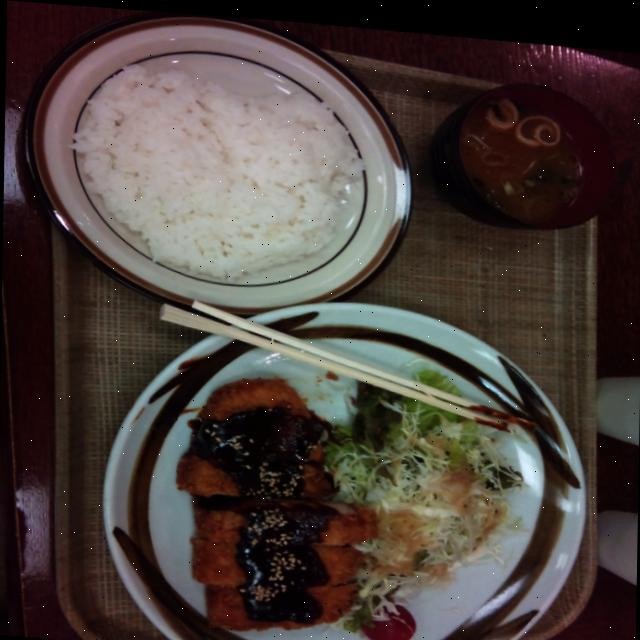汤锅炖物: (430, 66, 617, 229)
米饭主食: (19, 1, 413, 334)
蔬菜料理: (324, 361, 524, 632)
